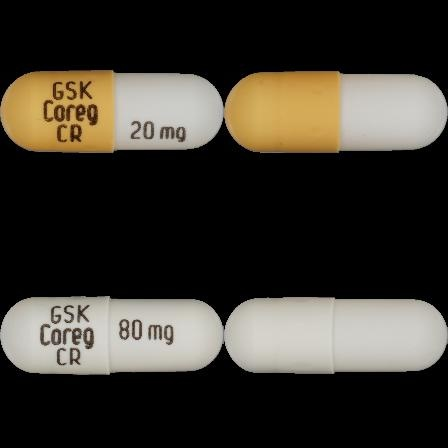68151-5049: (0, 0, 224, 224)
